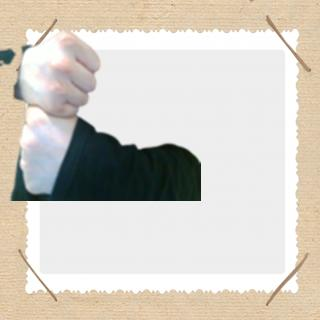CAREFUL: (8, 26, 104, 197)
